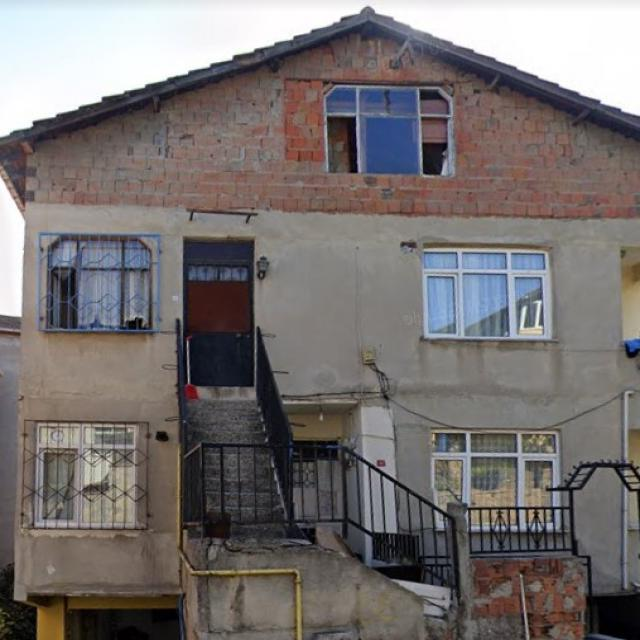Building: (0, 10, 640, 640)
